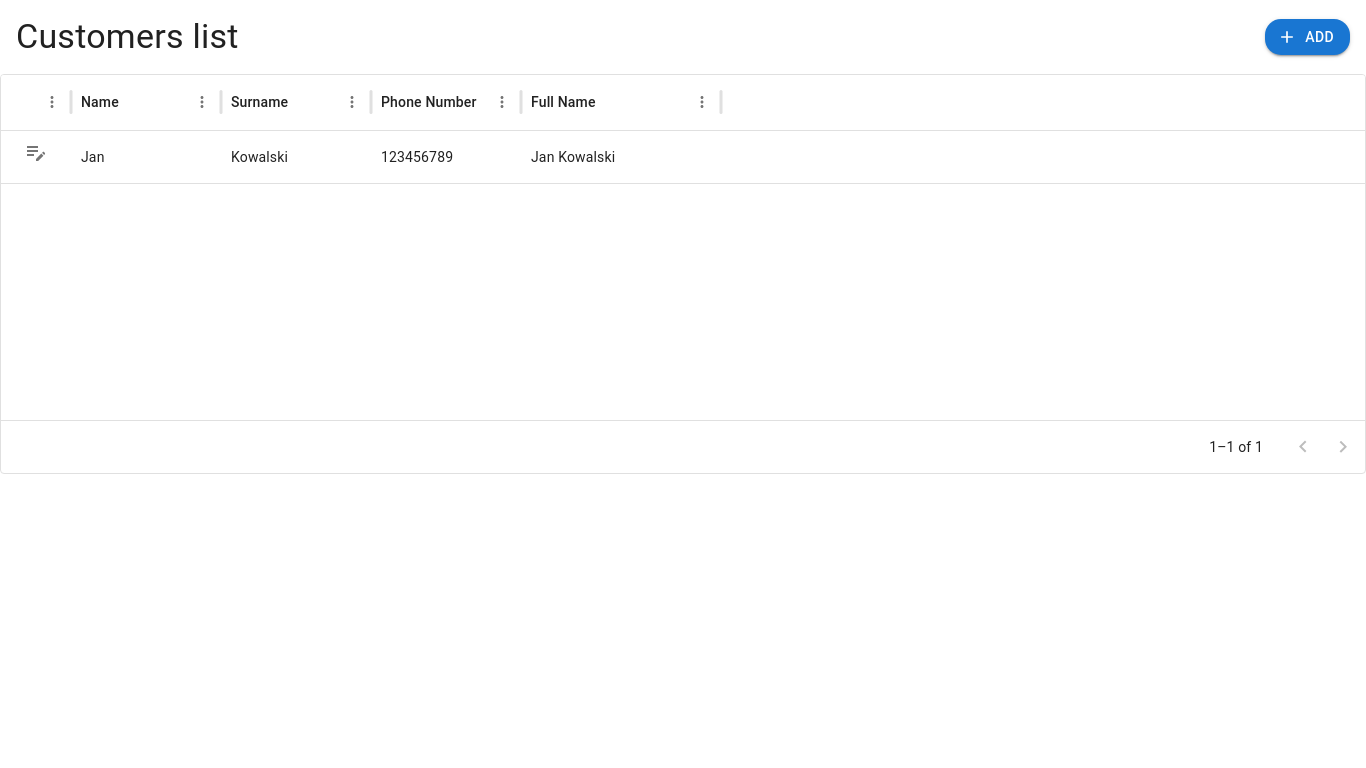
it: Clients page › opens modal when header button is clicked
Click the button "Add": (1308, 37) [1265, 19, 1350, 55]
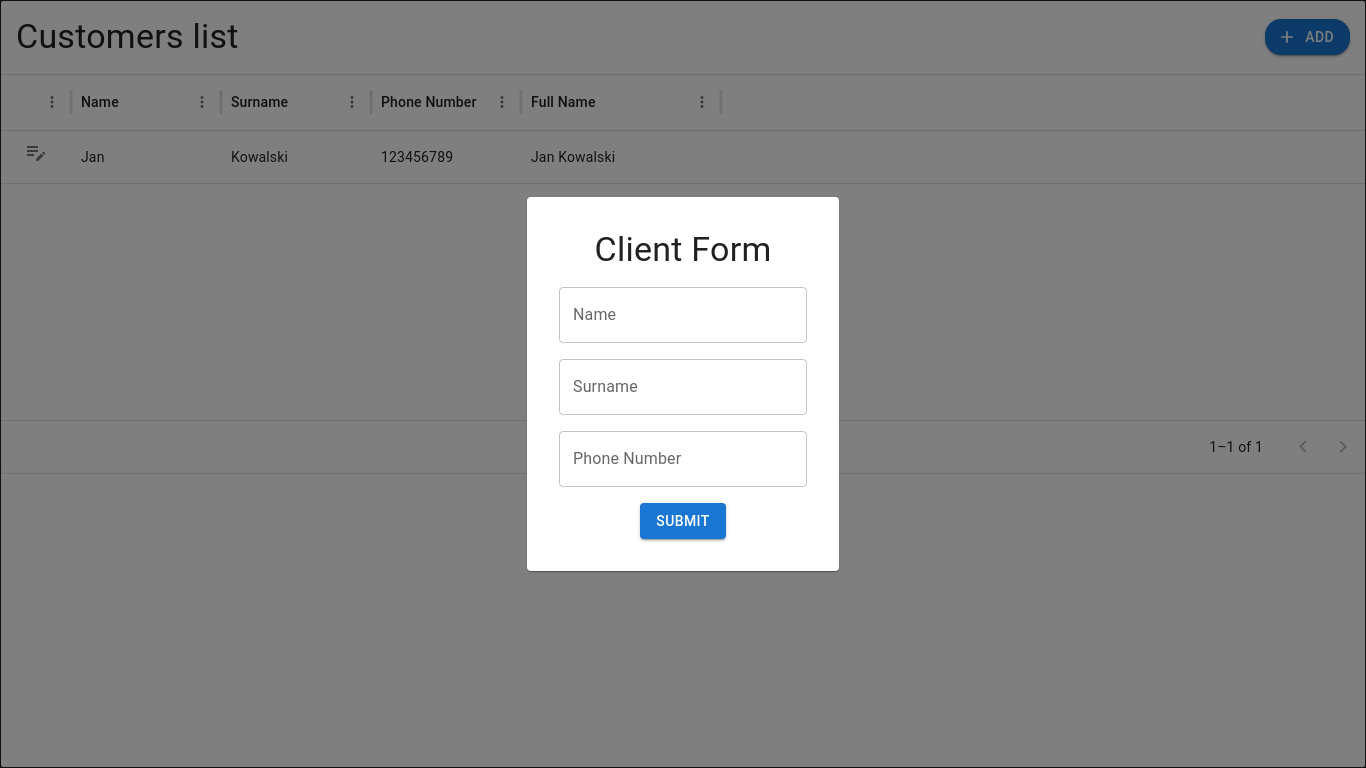
Expected: the heading "Client Form" is shown, [594, 229, 772, 271]
